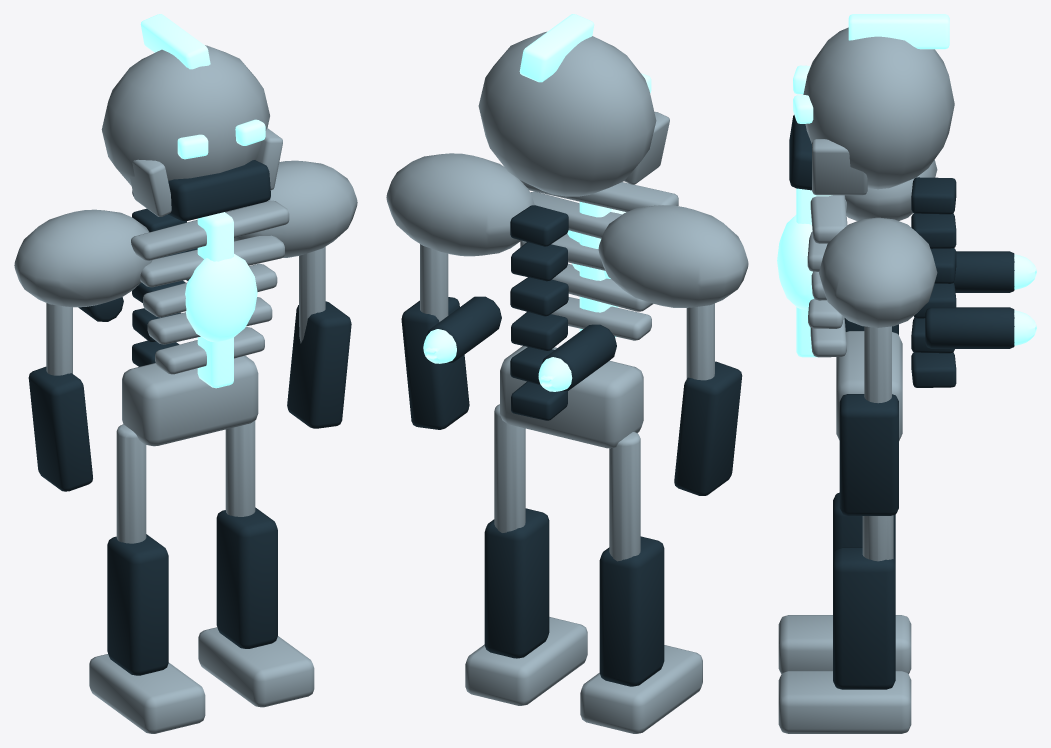
Rendered from Soldier_CryoRevenant_Armor.fbx.
3 renders of one model, left to right at view 1: azimuth 30°, elevation 25°; view 2: azimuth 150°, elevation 25°; view 3: azimuth 270°, elevation 25°, orthographic. The views are drawn at different scales.
Visible parts, largest first — view 1: Skull.003, Scapula_L.003, Pelvis.003, ShinBlade_L.003, ShinBlade_R.003, Scapula_R.003, ForearmBlade_R.003, ForearmBlade_L.003, Talon_R.003, Talon_L.003, FrozenHeart.003, Jaw.003 (+18 smaller); view 2: Skull.003, Scapula_L.003, Scapula_R.003, ShinBlade_L.003, ShinBlade_R.003, Pelvis.003, ForearmBlade_L.003, Talon_L.003, Talon_R.003, ForearmBlade_R.003, Femur_L.003, Femur_R.003 (+20 smaller); view 3: Skull.003, Scapula_R.003, ShinBlade_R.003, Talon_R.003, ForearmBlade_R.003, Talon_L.003, SoulJet_1.003, CranialSpine.003, Pelvis.003, FrozenHeart.003, SoulJet_-1.003, CheekBlade_1.003 (+19 smaller).
Boxes of the visible parts, x1,y1,x2,y2 form: Skull.003: [101, 45, 269, 185]; Scapula_L.003: [14, 209, 152, 307]; Pelvis.003: [122, 355, 258, 446]; ShinBlade_L.003: [107, 534, 168, 675]; ShinBlade_R.003: [216, 507, 277, 648]; Scapula_R.003: [225, 160, 357, 257]; ForearmBlade_R.003: [287, 301, 351, 428]; ForearmBlade_L.003: [28, 366, 92, 491]; Talon_R.003: [198, 627, 314, 707]; Talon_L.003: [89, 654, 205, 733]; FrozenHeart.003: [185, 254, 257, 342]; Jaw.003: [168, 160, 270, 221]; Skull.003: [478, 31, 656, 196]; Scapula_L.003: [598, 205, 748, 307]; Scapula_R.003: [386, 153, 534, 256]; ShinBlade_L.003: [599, 536, 664, 686]; ShinBlade_R.003: [484, 508, 549, 658]; Pelvis.003: [500, 346, 643, 448]; ForearmBlade_L.003: [674, 361, 742, 495]; Talon_L.003: [580, 645, 702, 733]; Talon_R.003: [465, 617, 587, 705]; ForearmBlade_R.003: [401, 297, 469, 429]; Femur_L.003: [609, 431, 640, 561]; Femur_R.003: [494, 404, 525, 532]; Skull.003: [803, 27, 954, 189]; Scapula_R.003: [819, 217, 937, 327]; ShinBlade_R.003: [833, 547, 895, 689]; Talon_R.003: [778, 671, 911, 733]; ForearmBlade_R.003: [839, 394, 898, 515]; Talon_L.003: [778, 615, 911, 673]; SoulJet_1.003: [925, 307, 1014, 348]; CranialSpine.003: [848, 14, 949, 49]; Pelvis.003: [836, 331, 902, 440]; FrozenHeart.003: [777, 215, 813, 309]; SoulJet_-1.003: [953, 251, 1014, 292]; CheekBlade_1.003: [812, 139, 867, 195].
Size of the model in its own units: 231 by 429 by 149.
